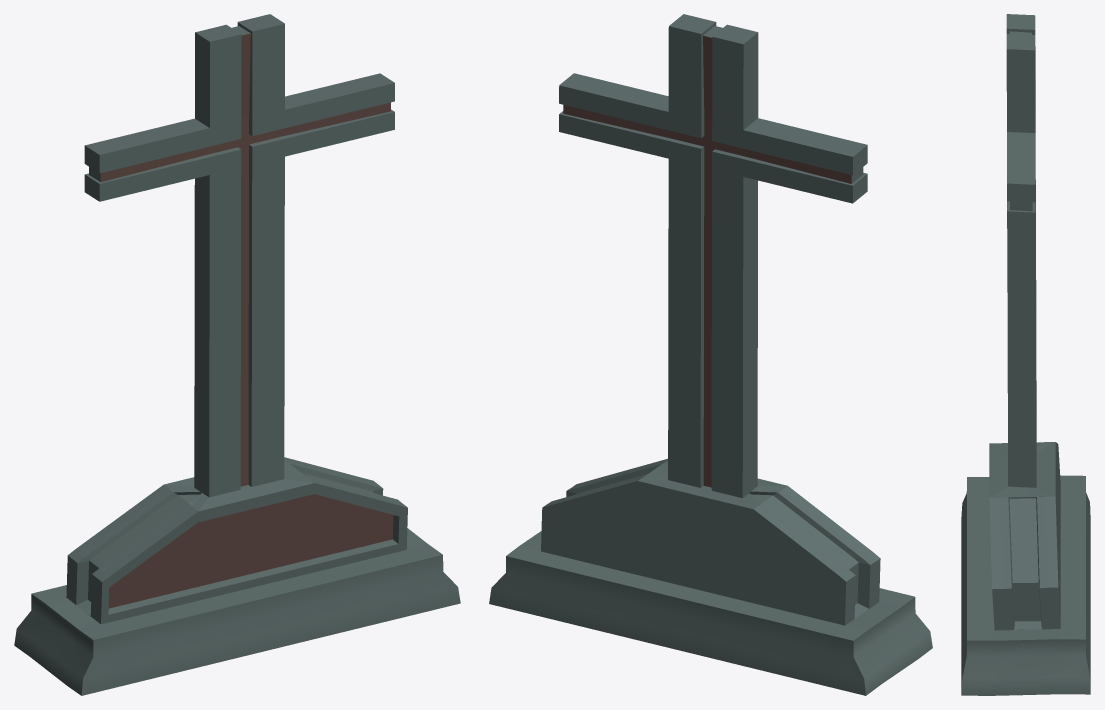
3 views of the same model, side by side, from view 1: azimuth 30°, elevation 25°; view 2: azimuth 150°, elevation 25°; view 3: azimuth 270°, elevation 25° (orthographic). The views are drawn at different scales.
Parts seen in each view (by area): view 1: pCube4; view 2: pCube4; view 3: pCube4.
Boxes of the visible parts, left/top/right/bottom form: pCube4: left=14, top=14, right=460, bottom=695; pCube4: left=489, top=14, right=932, bottom=695; pCube4: left=961, top=14, right=1090, bottom=695.
Size of the model in its own units: 1.45 by 2.19 by 0.4457.
